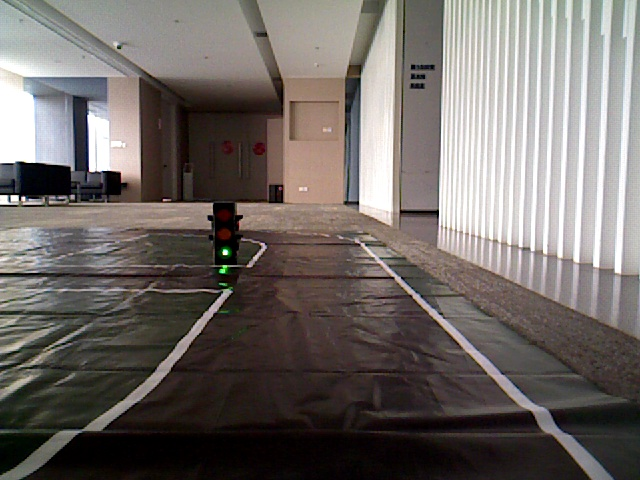green: (212, 202, 238, 260)
